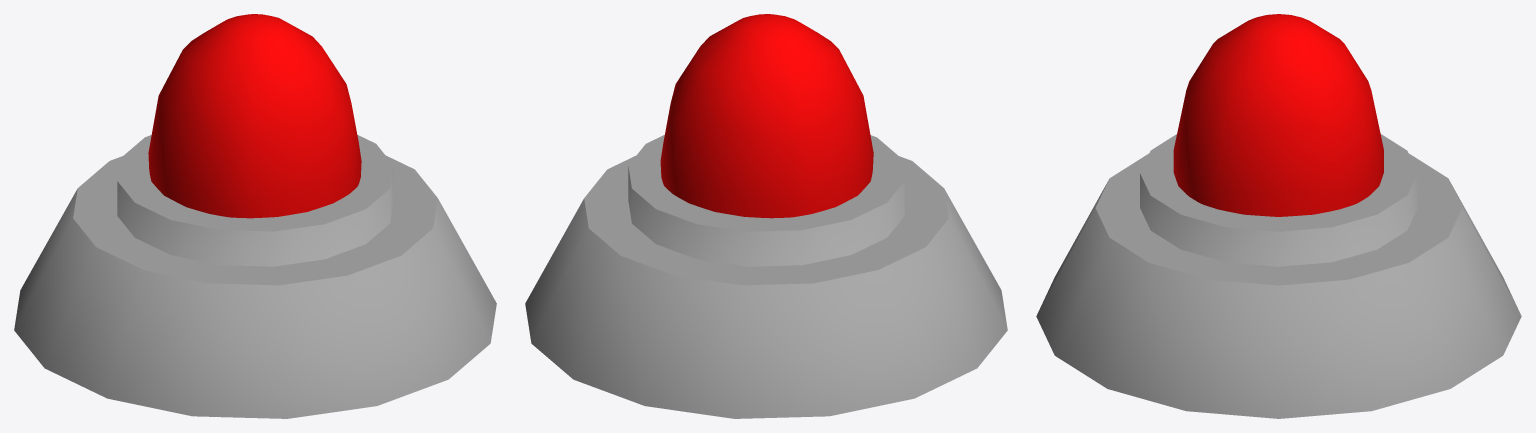
The model's file is obj_Alarm01_.FBX.
3 views of the same model, side by side, from view 1: azimuth 30°, elevation 25°; view 2: azimuth 150°, elevation 25°; view 3: azimuth 270°, elevation 25° (orthographic).
Parts seen in each view (by area): view 1: obj_Alarm01; view 2: obj_Alarm01; view 3: obj_Alarm01.
Part boxes in pixels (x1,y1,x2,y2): obj_Alarm01: (14, 14, 496, 418); obj_Alarm01: (525, 14, 1007, 418); obj_Alarm01: (1036, 14, 1521, 418).
Bounding box in the file's own units: 200 × 134 × 200.
